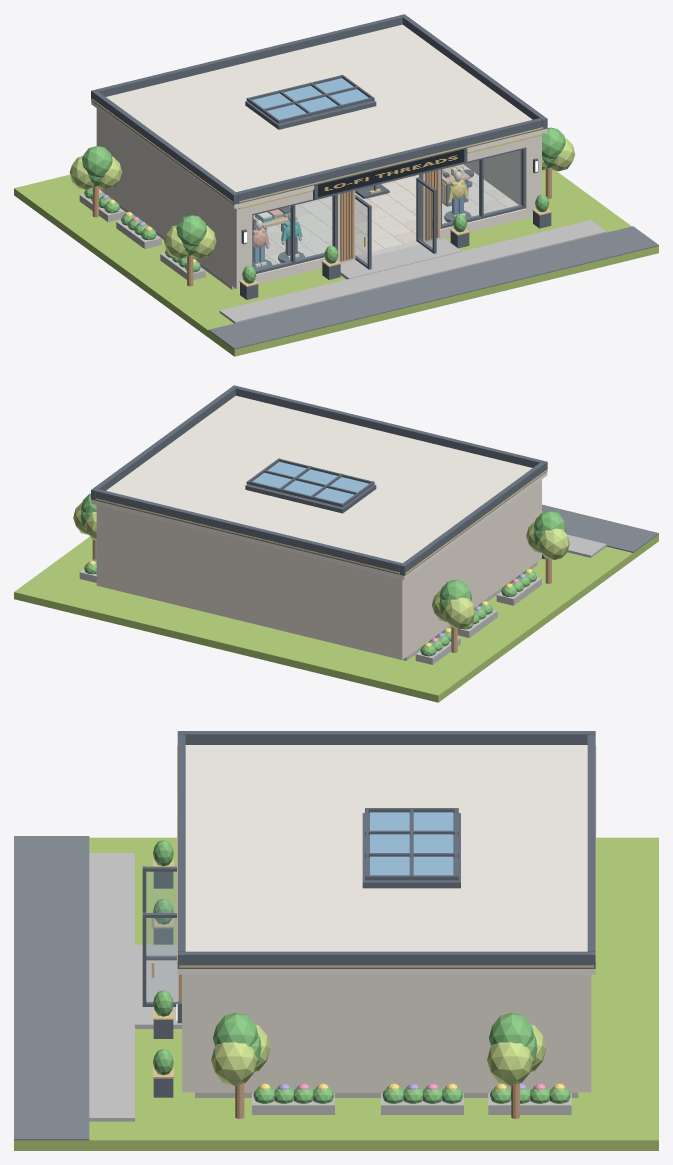
File: threads.glb
The picture shows the model from 3 angles, top to bottom: view 1: azimuth 30°, elevation 25°; view 2: azimuth 150°, elevation 25°; view 3: azimuth 270°, elevation 25°; orthographic projection. The views are drawn at different scales.
Parts seen in each view (by area): view 1: Roof_cream, Site_grass, Walls_ivory, Roof_charcoal, Site_asphalt, Windows_glass, Site_paver, FloorFinish_tile2, Landscape_leaf, Windows_charcoal, Landscape_leaf2, Roof_blue (+11 smaller); view 2: Roof_cream, Walls_ivory, Site_grass, Roof_charcoal, Landscape_leaf, Landscape_leaf2, Site_asphalt, Roof_blue, Landscape_paver, Roof_gold, Site_paver; view 3: Roof_cream, Site_grass, Walls_ivory, Site_asphalt, Roof_charcoal, Site_paver, Landscape_leaf, Roof_blue, Landscape_leaf2, Doors_Open_glass, Landscape_paver, Roof_gold (+4 smaller).
Part boxes in pixels (x1,y1,x2,y2): Roof_cream: (91,24,547,208); Site_grass: (14,169,658,356); Walls_ivory: (96,108,541,288); Roof_charcoal: (91,14,547,204); Site_asphalt: (208,226,658,349); Windows_glass: (253,150,521,269); Site_paver: (219,220,606,323); FloorFinish_tile2: (112,165,518,285); Landscape_leaf: (82,127,565,283); Windows_charcoal: (252,147,525,273); Landscape_leaf2: (69,138,575,258); Roof_blue: (252,78,368,119); Roof_cream: (91,395,547,579); Walls_ivory: (96,479,541,659); Site_grass: (14,534,658,702); Roof_charcoal: (91,385,547,575); Landscape_leaf: (80,493,566,656); Landscape_leaf2: (73,502,569,628); Site_asphalt: (542,504,658,552); Roof_blue: (252,461,368,503); Landscape_paver: (79,569,541,664); Roof_gold: (95,469,547,574); Site_paver: (567,534,606,557); Roof_cream: (177,745,595,974); Site_grass: (14,837,658,1150); Walls_ivory: (182,974,591,1092); Site_asphalt: (14,836,89,1140); Roof_charcoal: (177,731,595,968); Site_paver: (89,853,181,1121); Landscape_leaf: (153,840,570,1103); Roof_blue: (370,812,453,875); Landscape_leaf2: (211,1024,546,1085); Doors_Open_glass: (147,872,178,1001); Landscape_paver: (252,1093,571,1114); Roof_gold: (177,745,596,967).
Bounding box in the file's own units: 20 × 4.84 × 18.
38 materials, 2 textured.
